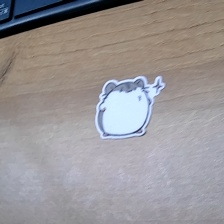mouse: (93, 75, 166, 141)
